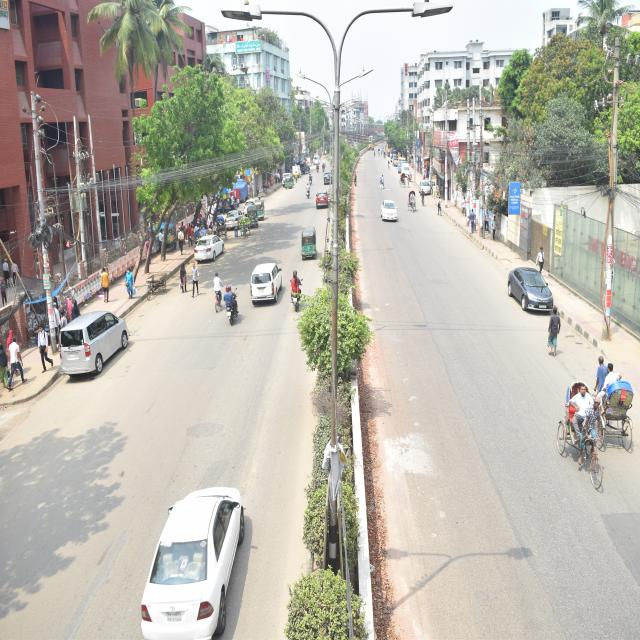car: (126, 423, 260, 640), (472, 230, 581, 346), (33, 294, 161, 391), (219, 159, 267, 236), (248, 242, 294, 320), (179, 210, 231, 269), (364, 195, 422, 243), (220, 187, 255, 246), (408, 171, 445, 210), (314, 180, 344, 226), (317, 163, 340, 195), (280, 163, 300, 190), (398, 161, 421, 181)
motorbike: (222, 260, 252, 348), (290, 248, 308, 330), (302, 178, 312, 206), (305, 164, 314, 191), (314, 157, 320, 177)
pickup-van: (289, 152, 306, 182), (300, 153, 312, 176)
